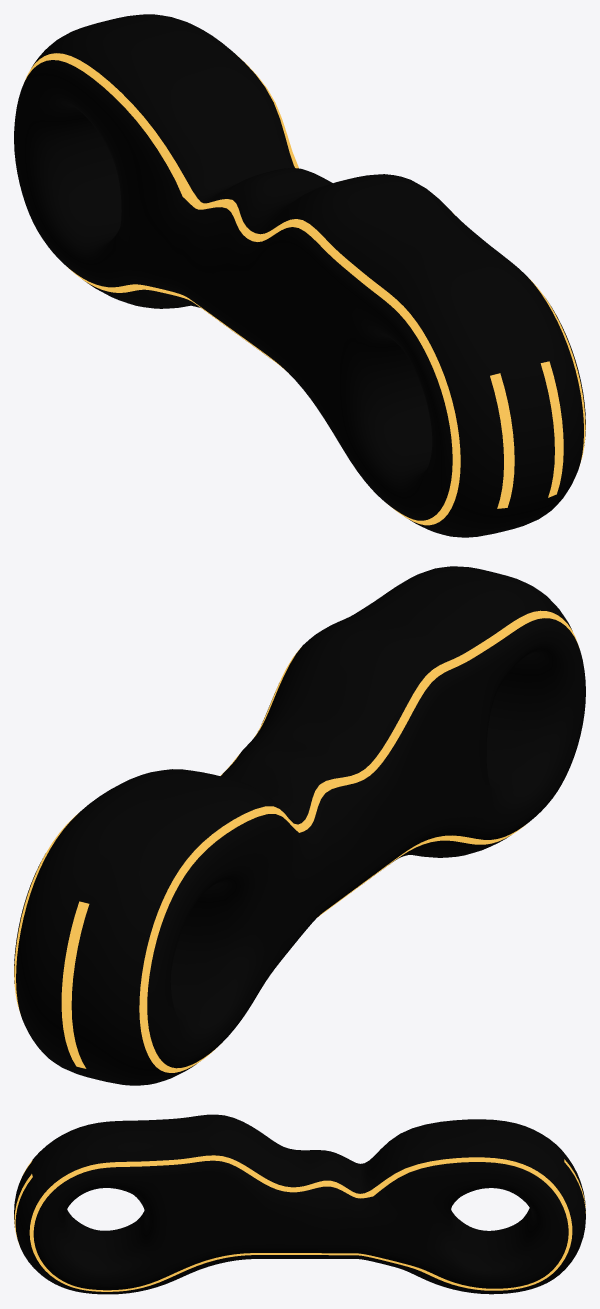
File: TronBike.glb
3 views of the same model, one above another, from view 1: azimuth 30°, elevation 25°; view 2: azimuth 150°, elevation 25°; view 3: azimuth 270°, elevation 25° (orthographic). The views are drawn at different scales.
Parts seen in each view (by area): view 1: Base; view 2: Base; view 3: Base.
Part boxes in pixels (left/top/right/bottom): Base: left=14, top=14, right=585, bottom=537; Base: left=14, top=566, right=585, bottom=1085; Base: left=14, top=1114, right=585, bottom=1294.
Bounding box in the file's own units: 0.0477 × 0.085 × 0.2706.
